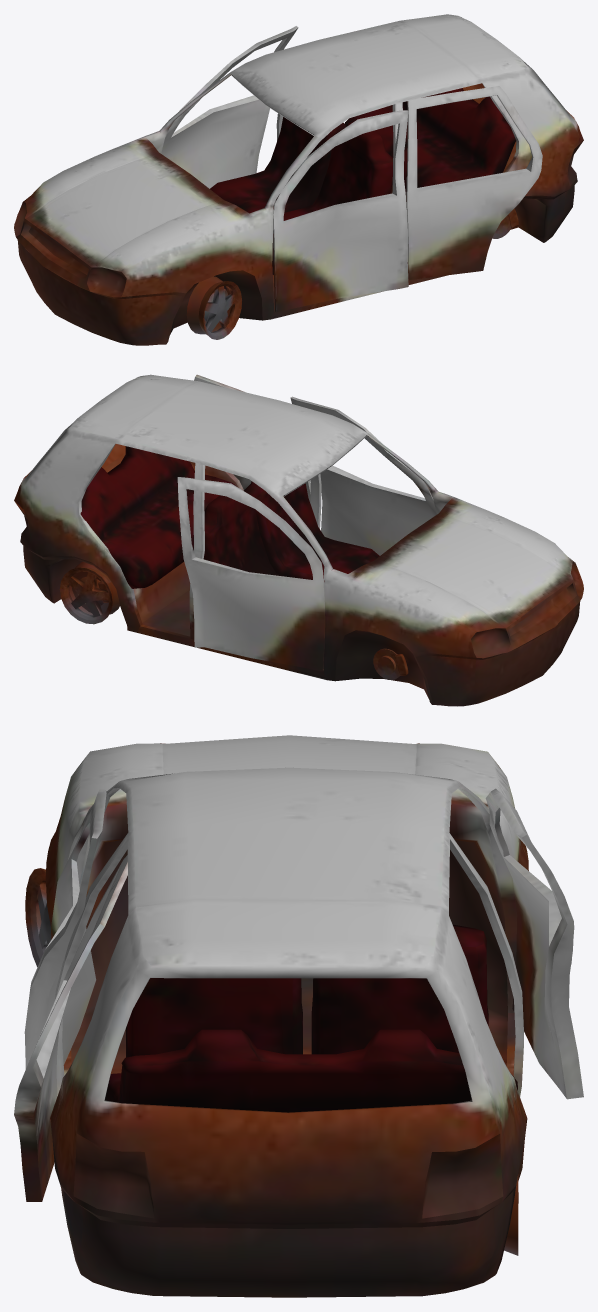
Rendered from p_car2.glb.
The picture shows the model from 3 angles, top to bottom: view 1: azimuth 30°, elevation 25°; view 2: azimuth 150°, elevation 25°; view 3: azimuth 270°, elevation 25°; orthographic projection. The views are drawn at different scales.
Parts seen in each view (by area): view 1: CarChasis-low_Chasis_0; view 2: CarChasis-low_Chasis_0; view 3: CarChasis-low_Chasis_0.
Boxes of the visible parts, bbox=[...] form: CarChasis-low_Chasis_0: bbox=[14, 14, 583, 345]; CarChasis-low_Chasis_0: bbox=[14, 374, 583, 706]; CarChasis-low_Chasis_0: bbox=[14, 735, 583, 1297].
Bounding box in the file's own units: 942 × 320 × 482.
Materials: 1 (1 with a texture image).
